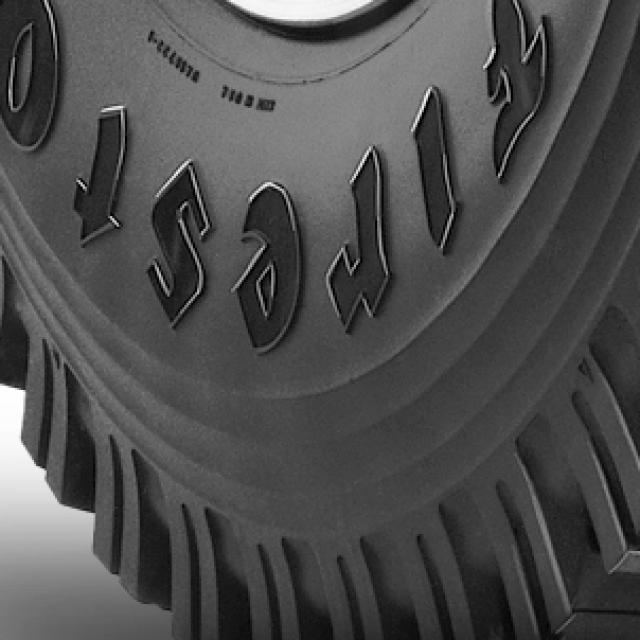Non-defective: (32, 37, 640, 441), (176, 449, 640, 640)
